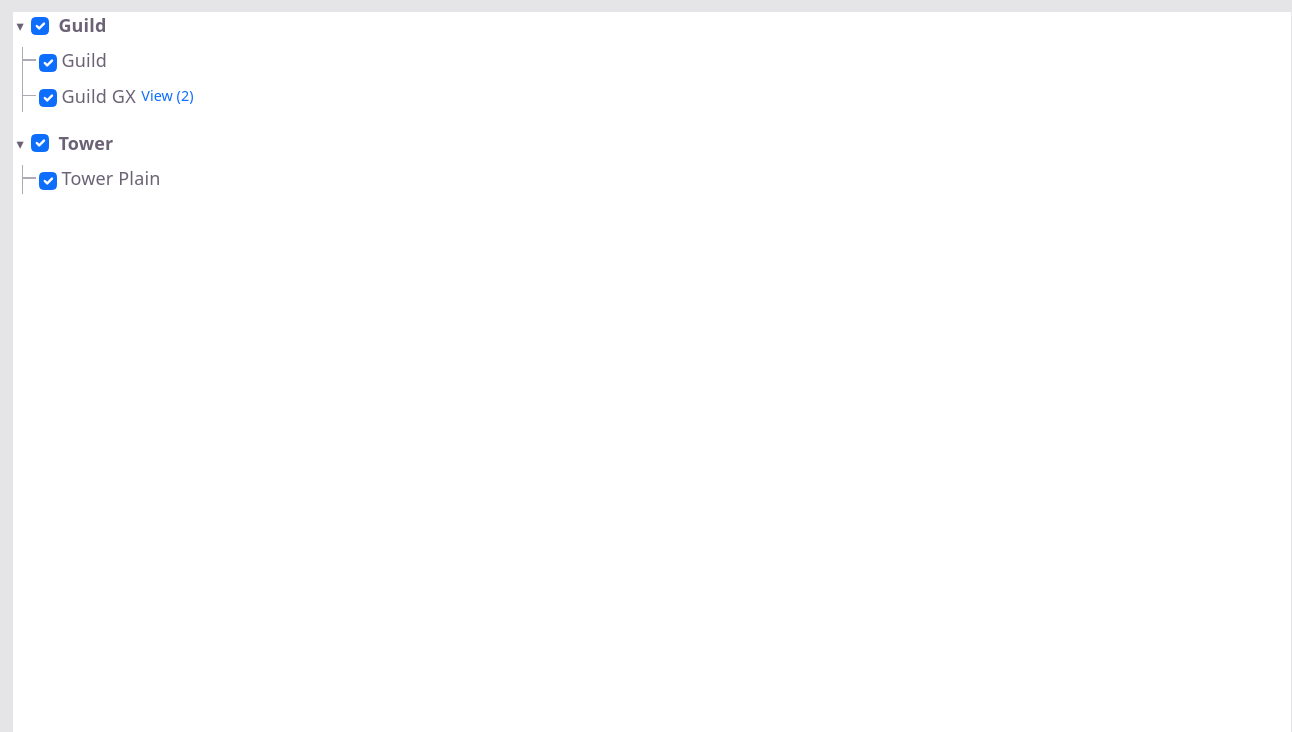
Scenario: CategoryFilter › itemsByCategory › expands to show every item name on click, and collapses again on a second click
Expected: the text "Guardian Mask" is not shown
Click the button "View (2)".
click(167, 96)  # box [140,84,194,108]
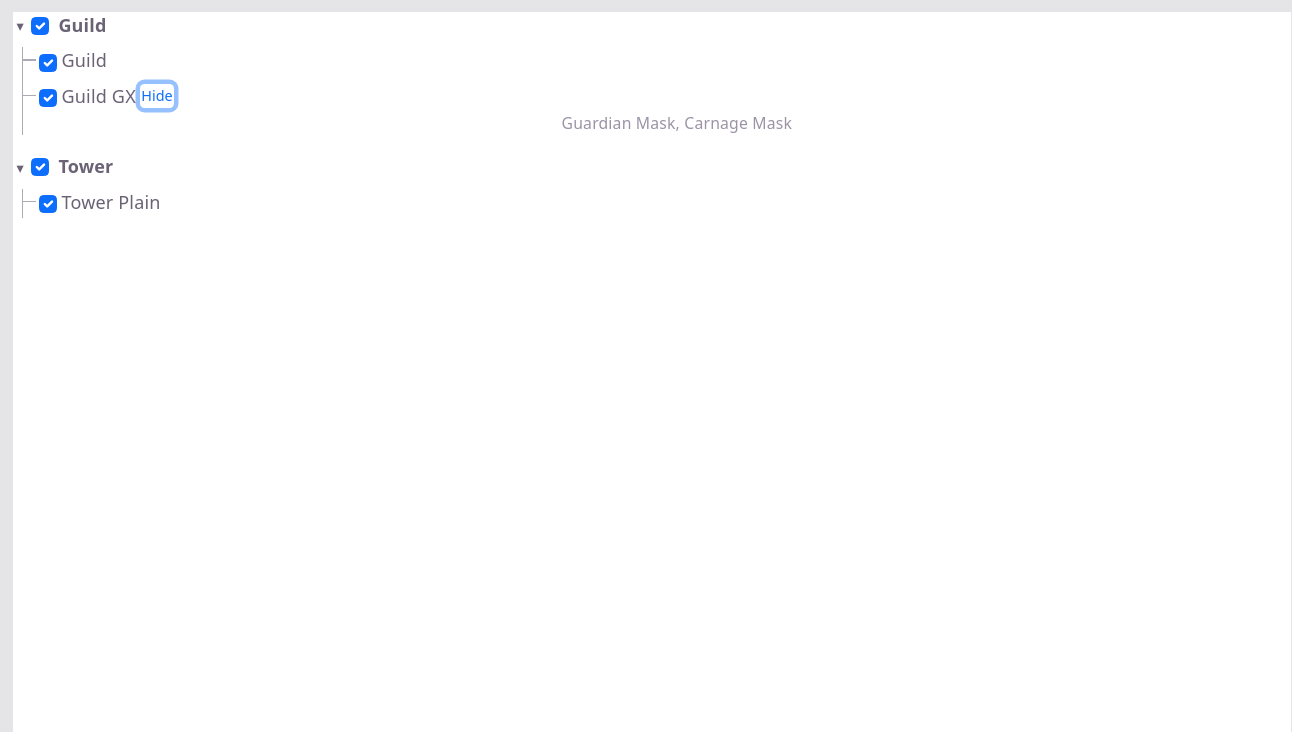
Now the text "Guardian Mask, Carnage Mask" is shown, box [562,112,792,134]
Click the button "Hide".
click(157, 96)  # box [140,84,174,108]
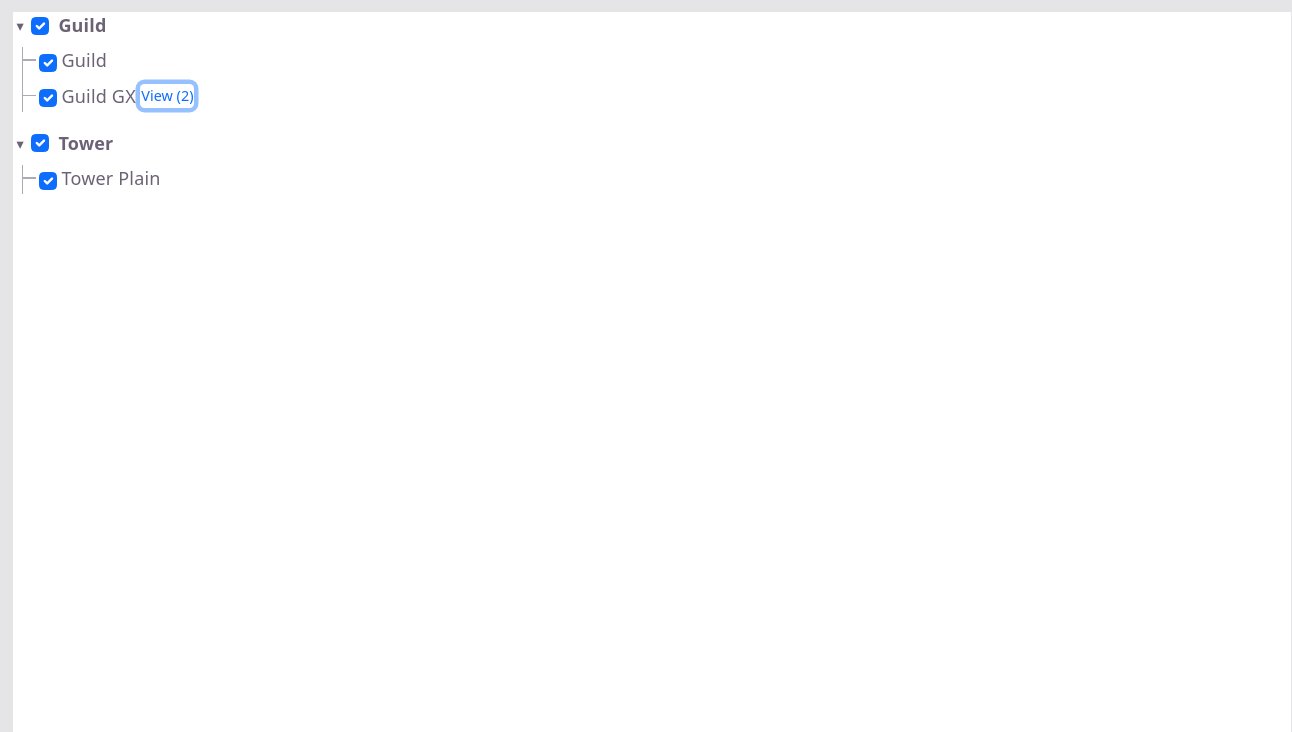
Now the text "Guardian Mask" is gone
